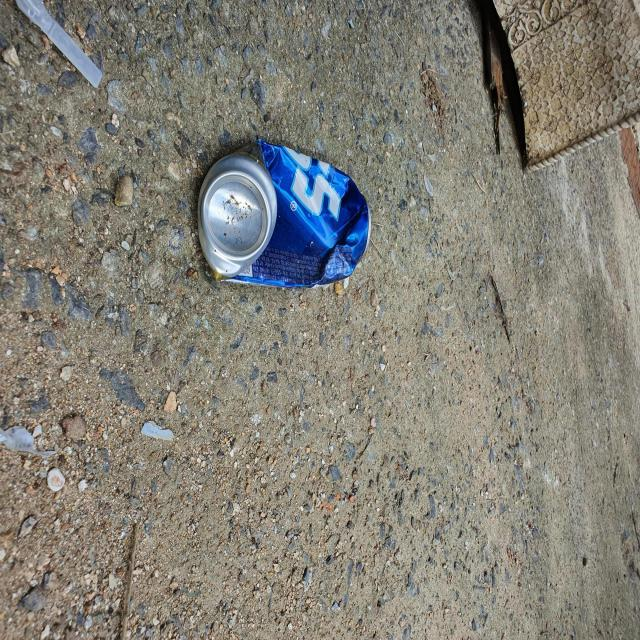can: (197, 139, 371, 286)
